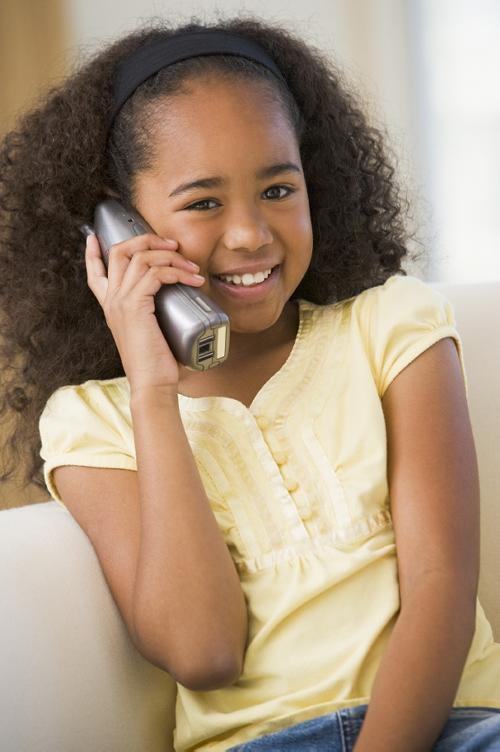person: (5, 17, 497, 744)
